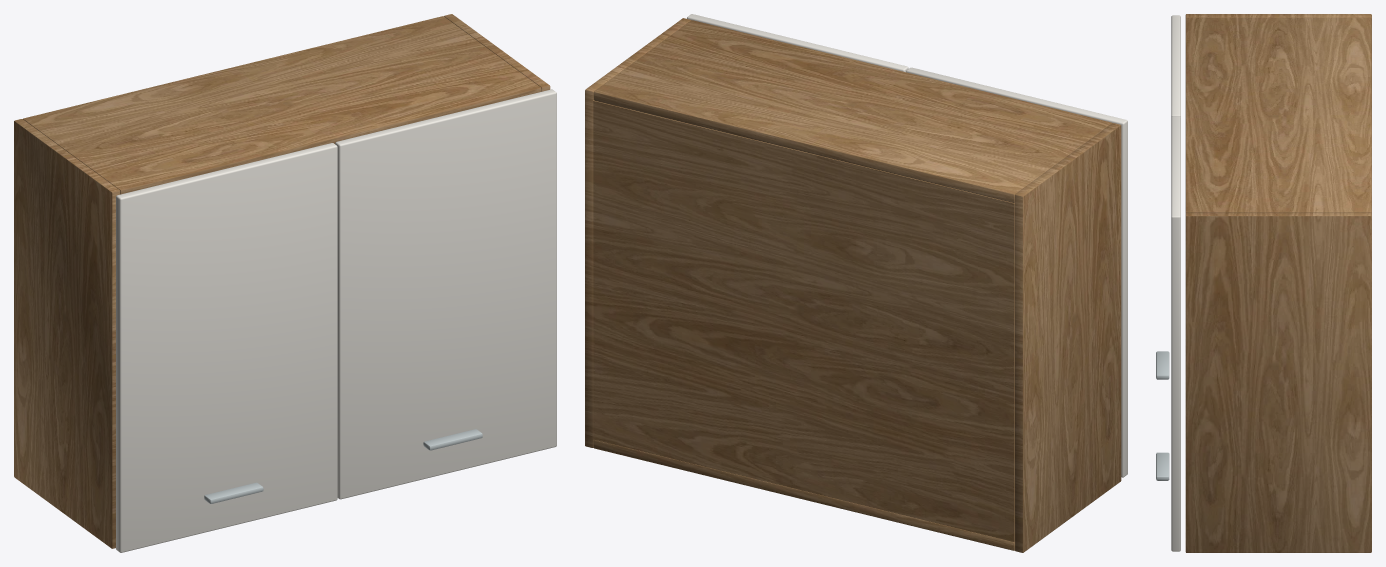
The model's file is armario_alto_cocina_900_base.glb.
The picture shows the model from 3 angles, left to right: view 1: azimuth 30°, elevation 25°; view 2: azimuth 150°, elevation 25°; view 3: azimuth 270°, elevation 25°; orthographic projection. The views are drawn at different scales.
Visible parts, largest first — view 1: armario_alto_cocina_900_base; view 2: armario_alto_cocina_900_base; view 3: armario_alto_cocina_900_base.
Boxes of the visible parts, x1,y1,x2,y2 form: armario_alto_cocina_900_base: (14,14,556,552); armario_alto_cocina_900_base: (585,14,1127,552); armario_alto_cocina_900_base: (1156,14,1371,552).
Bounding box in the file's own units: 0.9 × 0.7 × 0.4055.
Materials: 3 (1 with a texture image).
